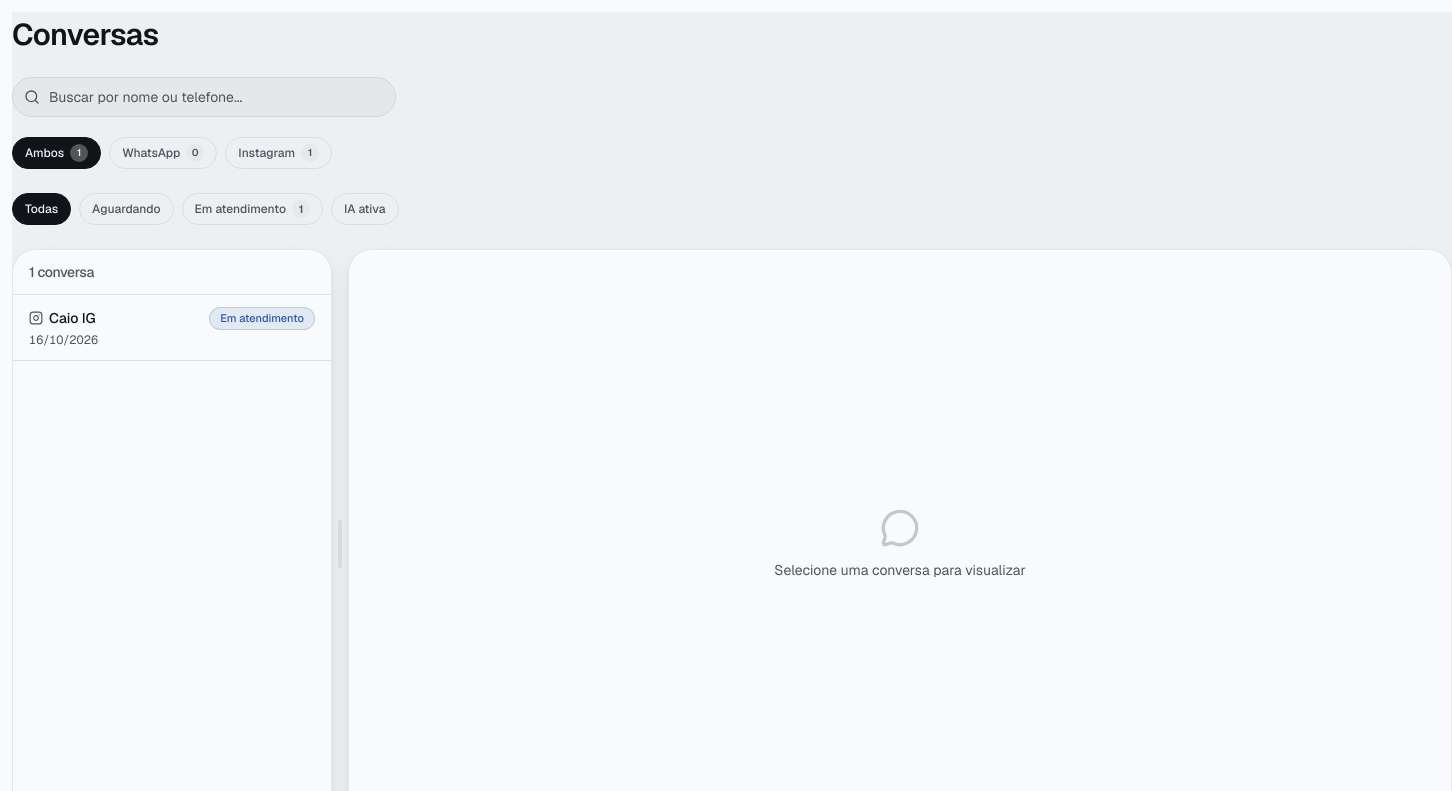
Test: Conversa do Instagram: envio, copy e identidade › conta com reautenticação pendente bloqueia o envio
Click the text "Caio IG" at (72, 318), box left=49, top=308, right=96, bottom=328
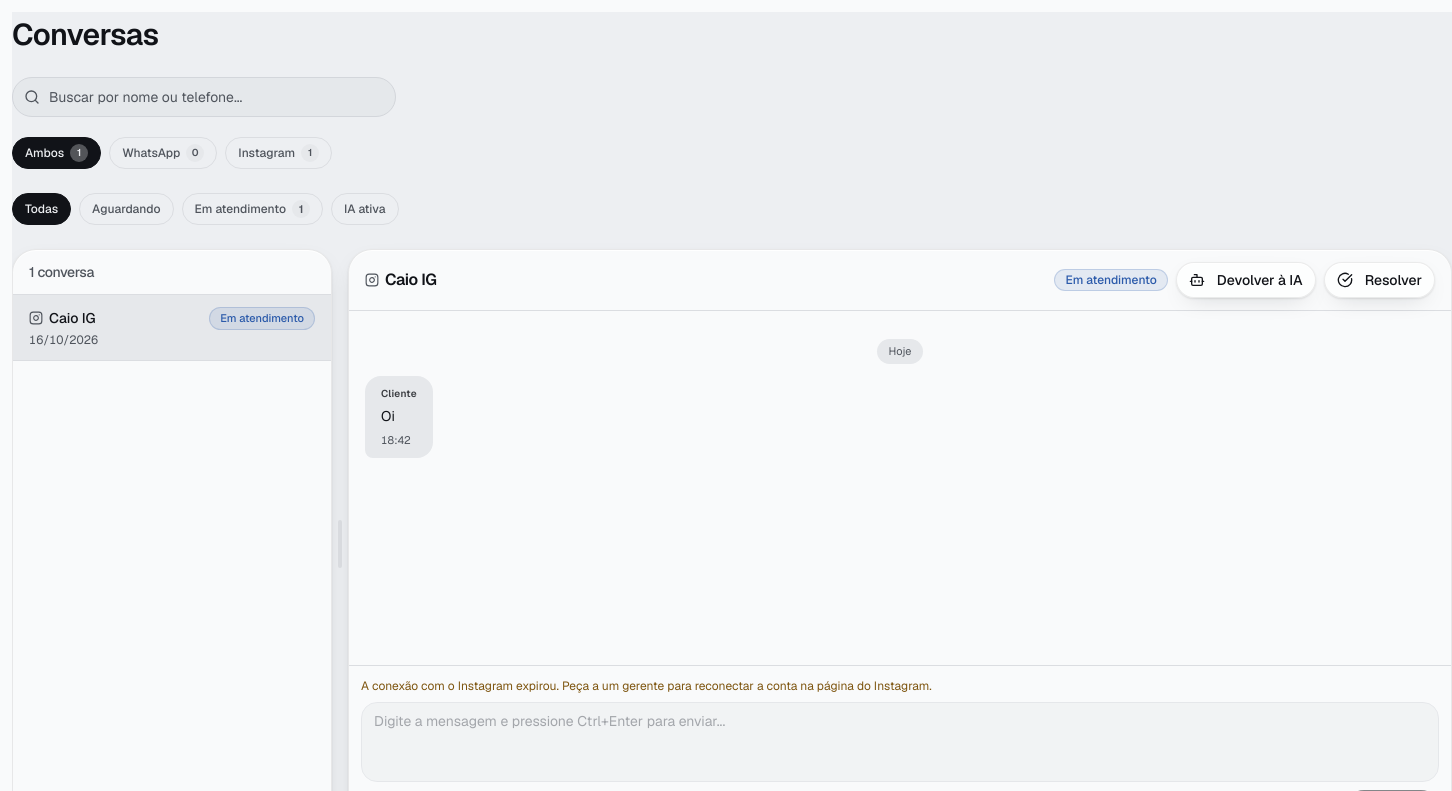
Expected: the text "Oi" is shown, left=381, top=406, right=395, bottom=424
Expected: the text box with placeholder "Digite a mensagem e pressione Ctrl+Enter para enviar..." is disabled, left=361, top=702, right=1439, bottom=782
Expected: the message shows "Peça a um gerente para reconectar", left=361, top=678, right=932, bottom=694
